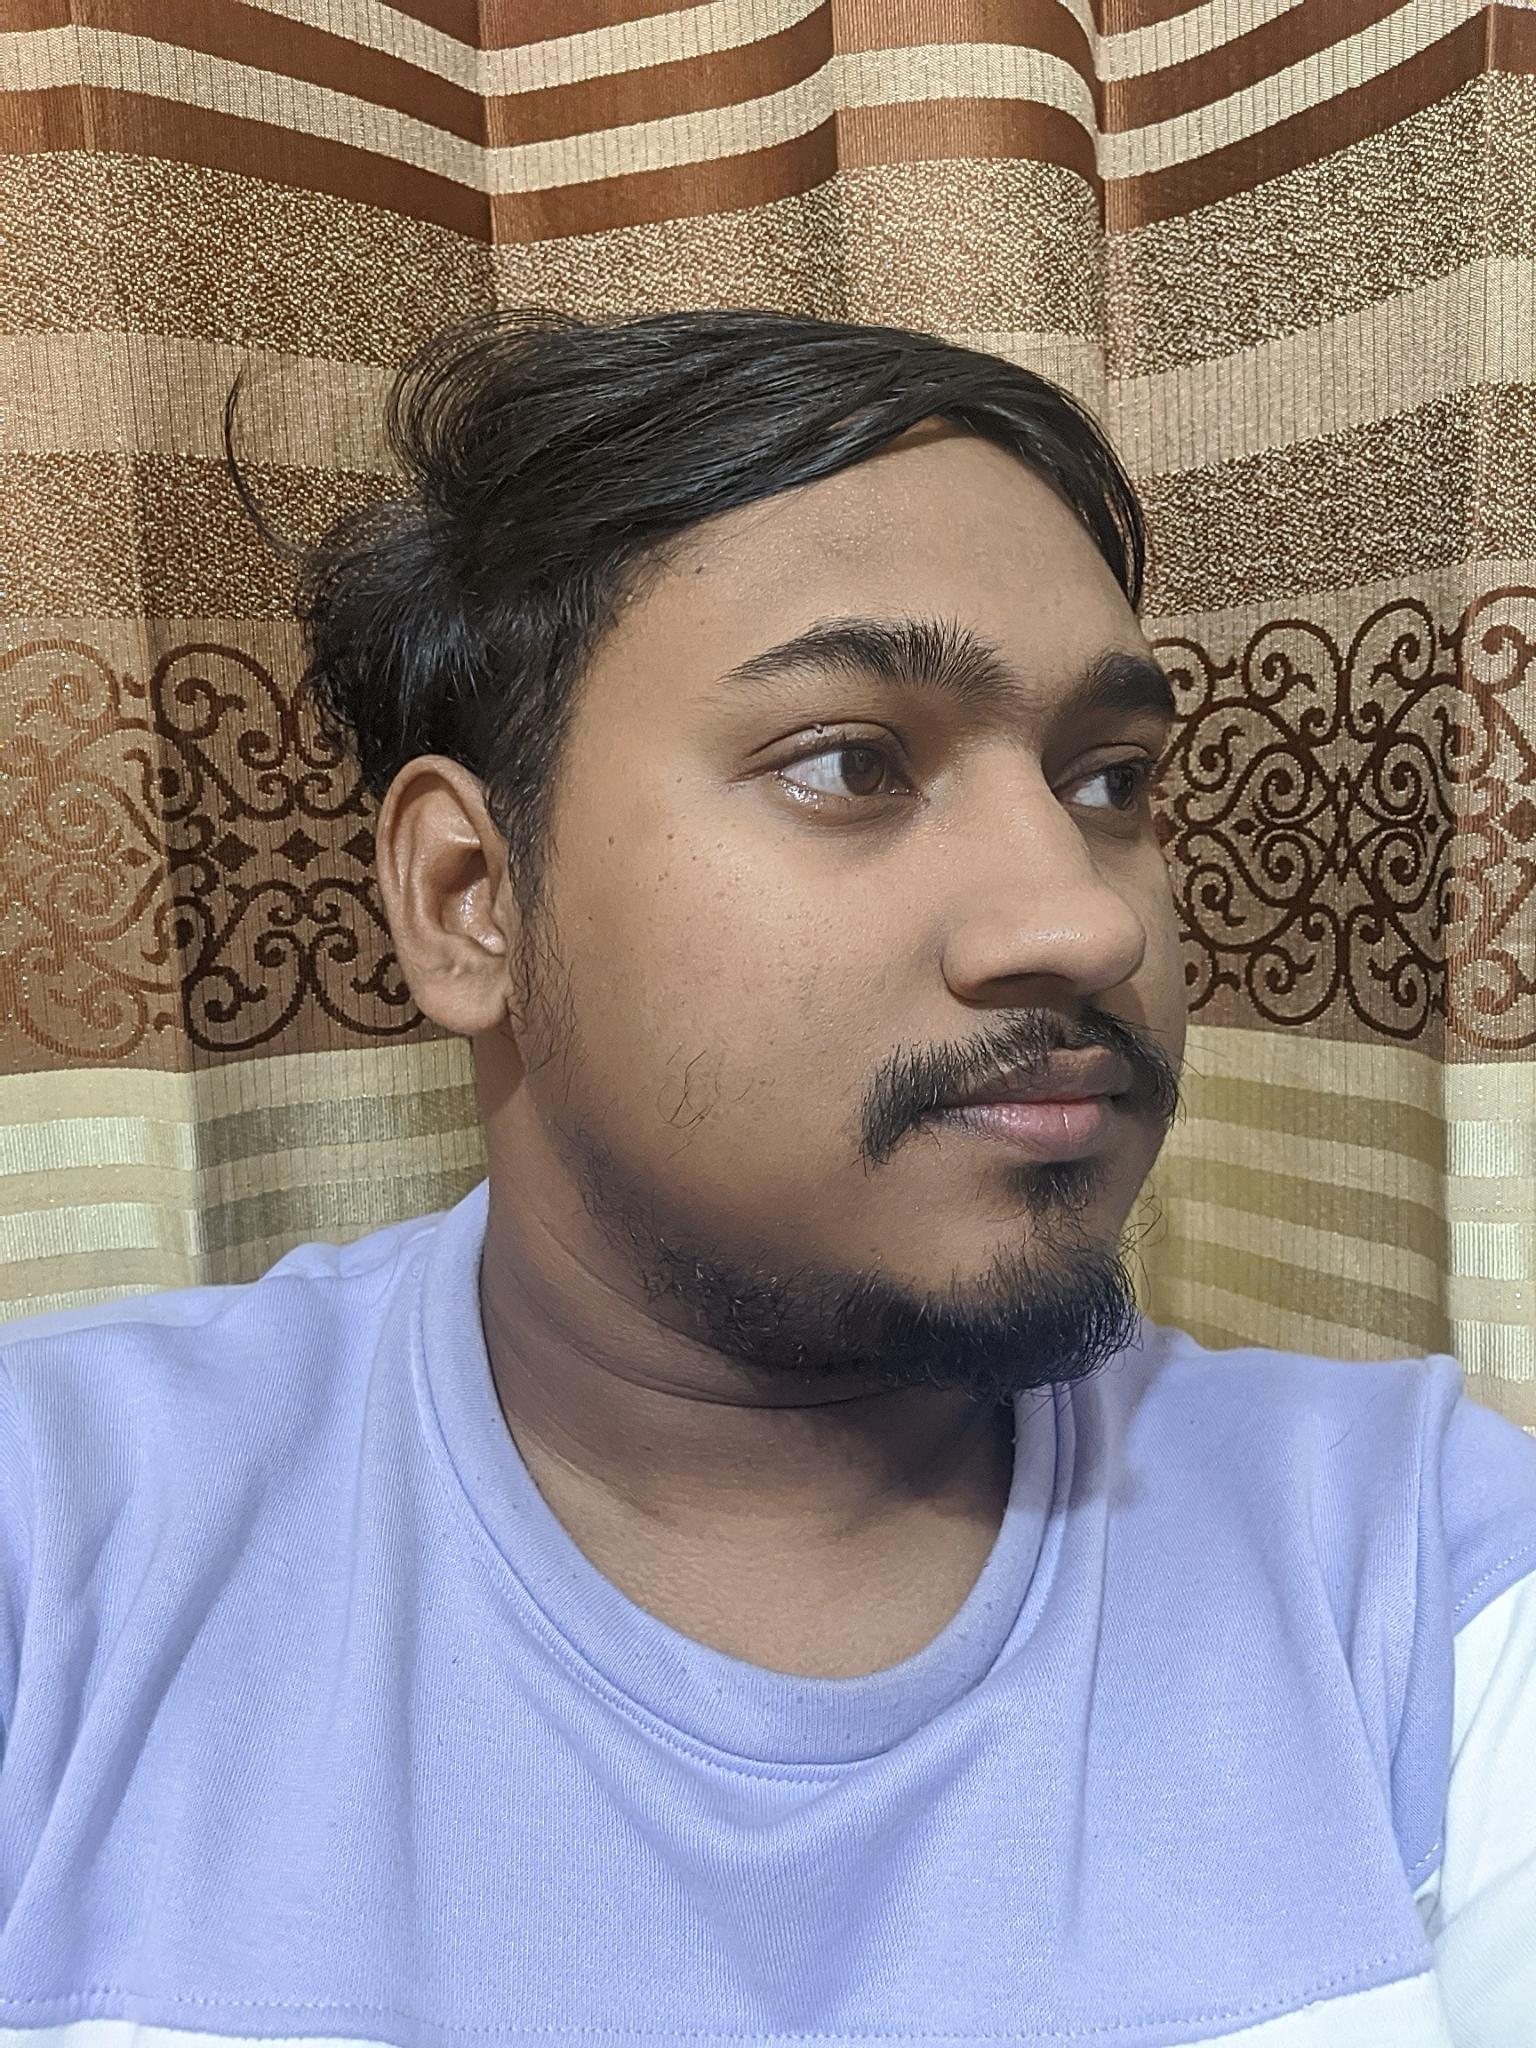Neutral: (676, 556, 1215, 1390)
